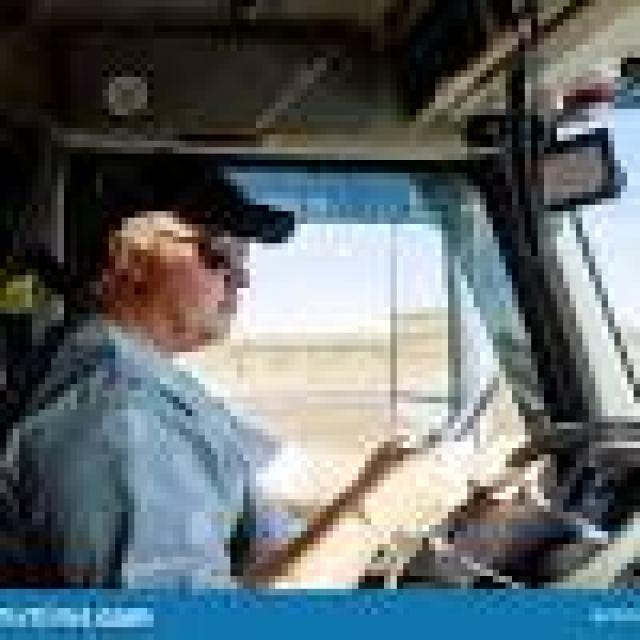Cellphone_texting: (358, 364, 512, 538)
